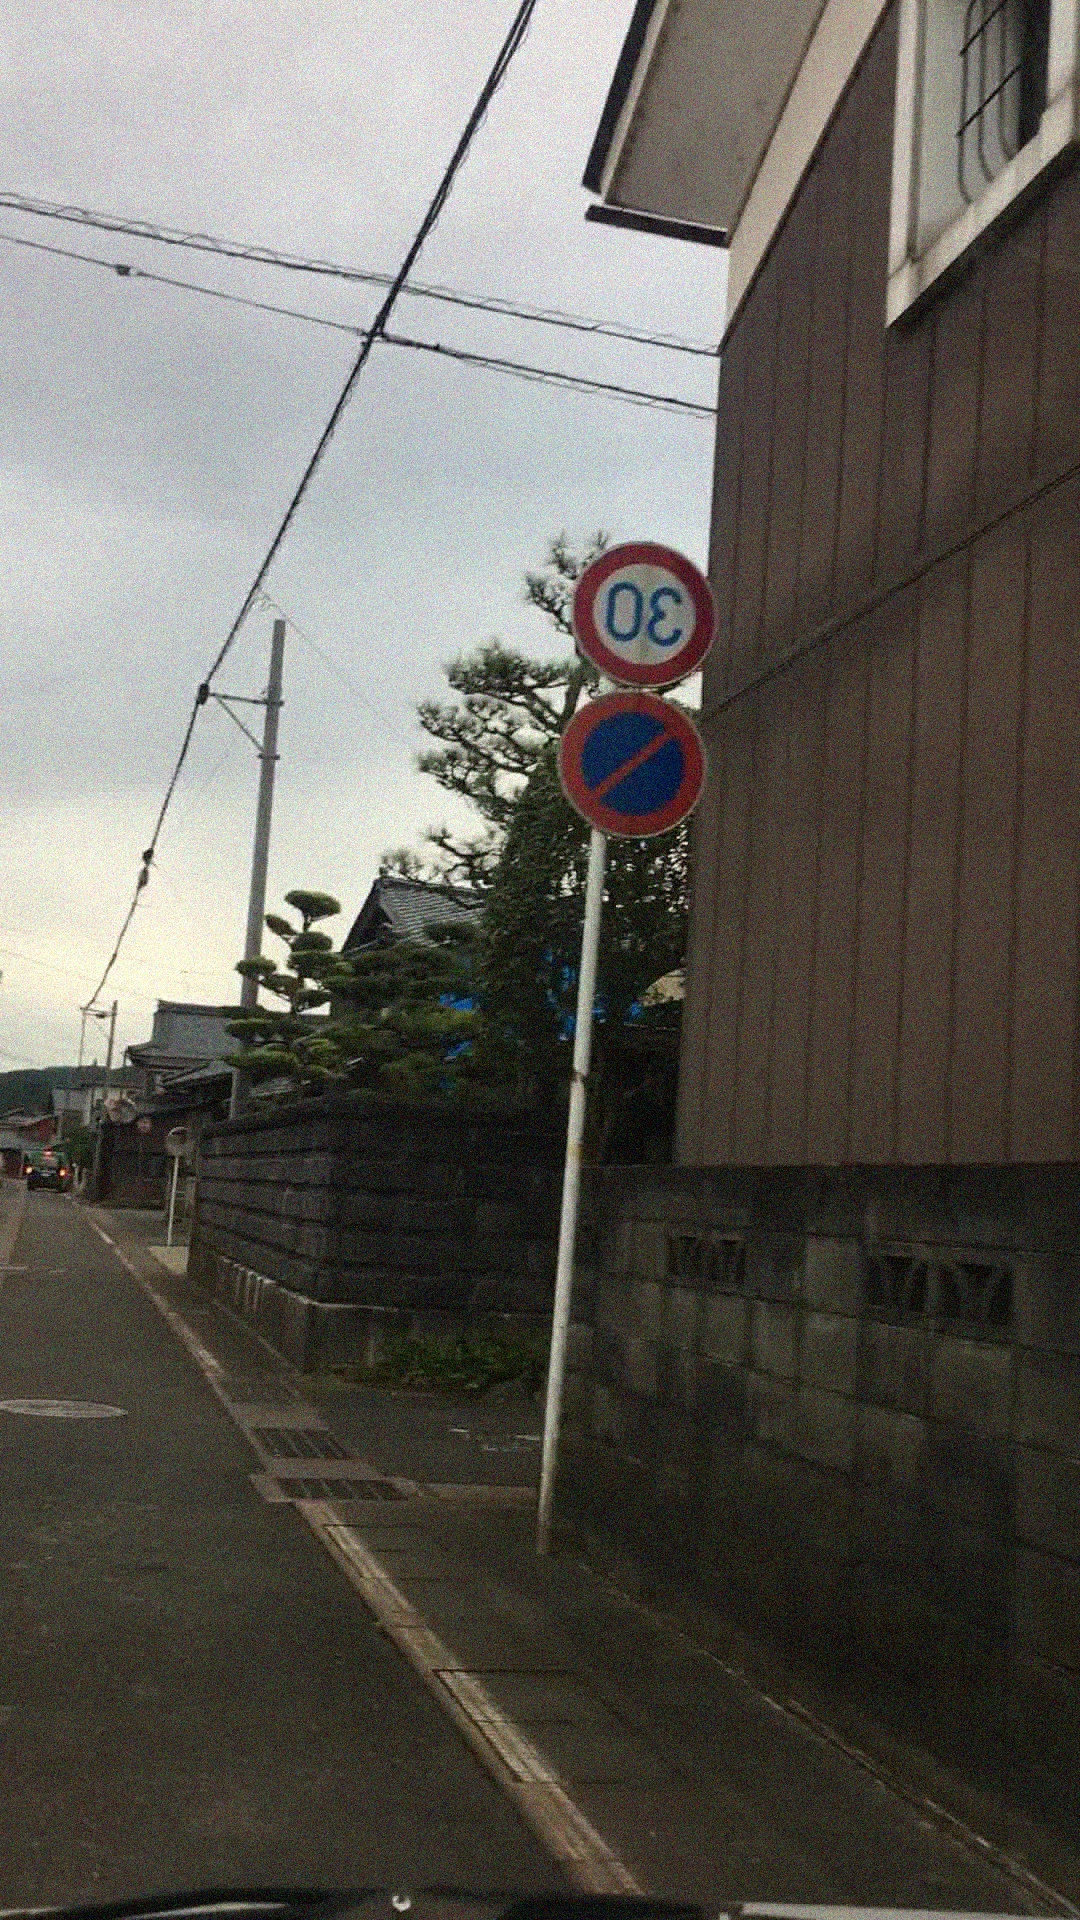Prohibition_sign: (550, 684, 708, 837)
Speed_sign: (576, 534, 727, 688)
